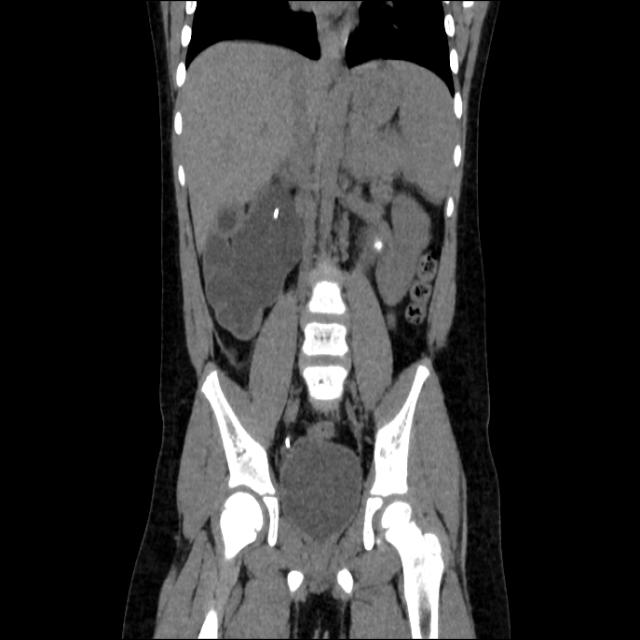kidney: (203, 180, 304, 341), (368, 176, 438, 306)
stone: (273, 207, 279, 220), (375, 240, 382, 250)
